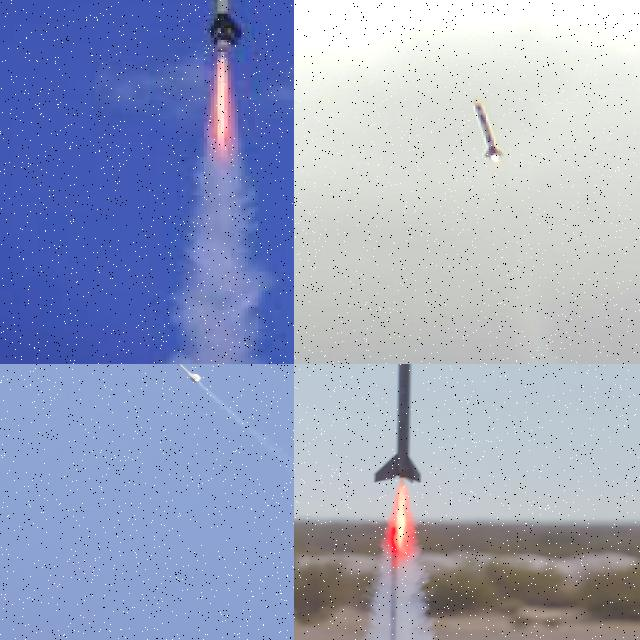Rocket: (374, 364, 421, 484), (206, 0, 244, 57), (472, 96, 505, 160), (176, 364, 203, 383)
